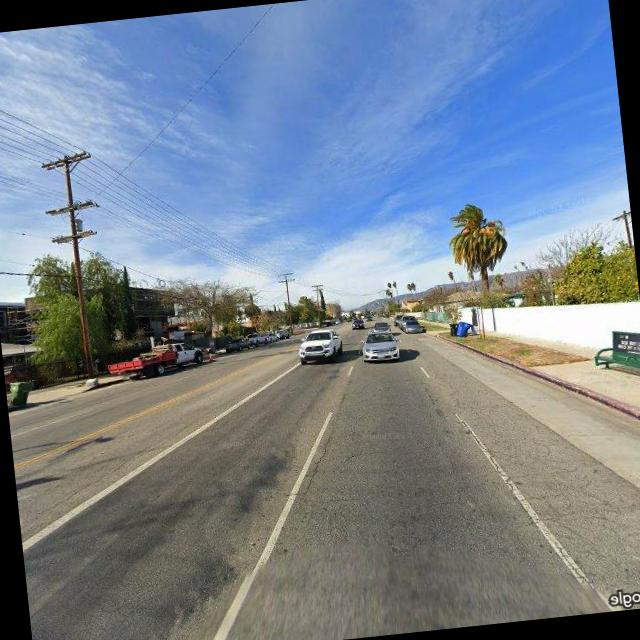pothole: (456, 402, 519, 502), (300, 438, 338, 496)
